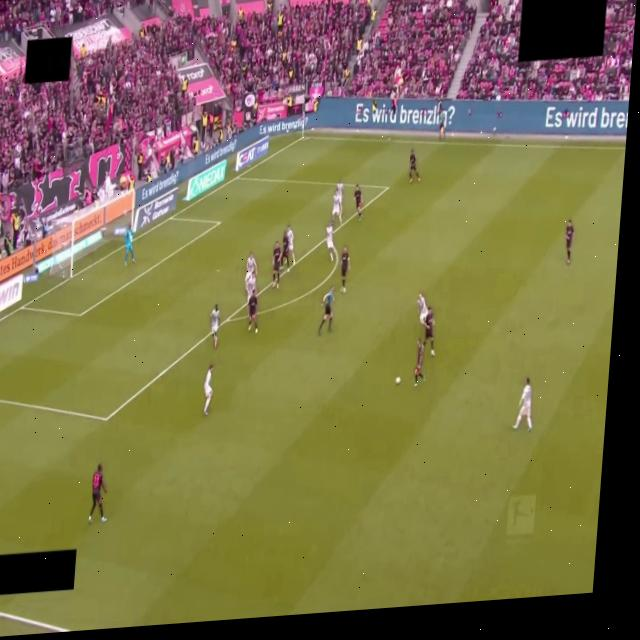ball: (395, 377, 400, 384)
player: (89, 464, 106, 522), (513, 378, 531, 431), (423, 307, 434, 357), (414, 341, 425, 386), (204, 365, 213, 414), (272, 242, 281, 289), (341, 247, 350, 293), (125, 224, 135, 265), (248, 292, 258, 332), (211, 304, 220, 348), (565, 220, 574, 263), (282, 229, 290, 272), (326, 223, 335, 261), (417, 294, 428, 324), (410, 150, 420, 182), (246, 253, 259, 277), (287, 225, 295, 264), (245, 275, 256, 301), (354, 185, 362, 220), (332, 193, 341, 224), (336, 182, 343, 214)
referee: (318, 287, 334, 334)
